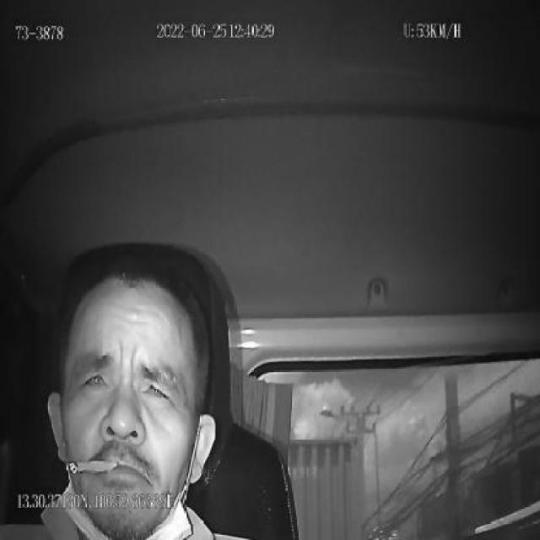smoking: (66, 457, 118, 476)
